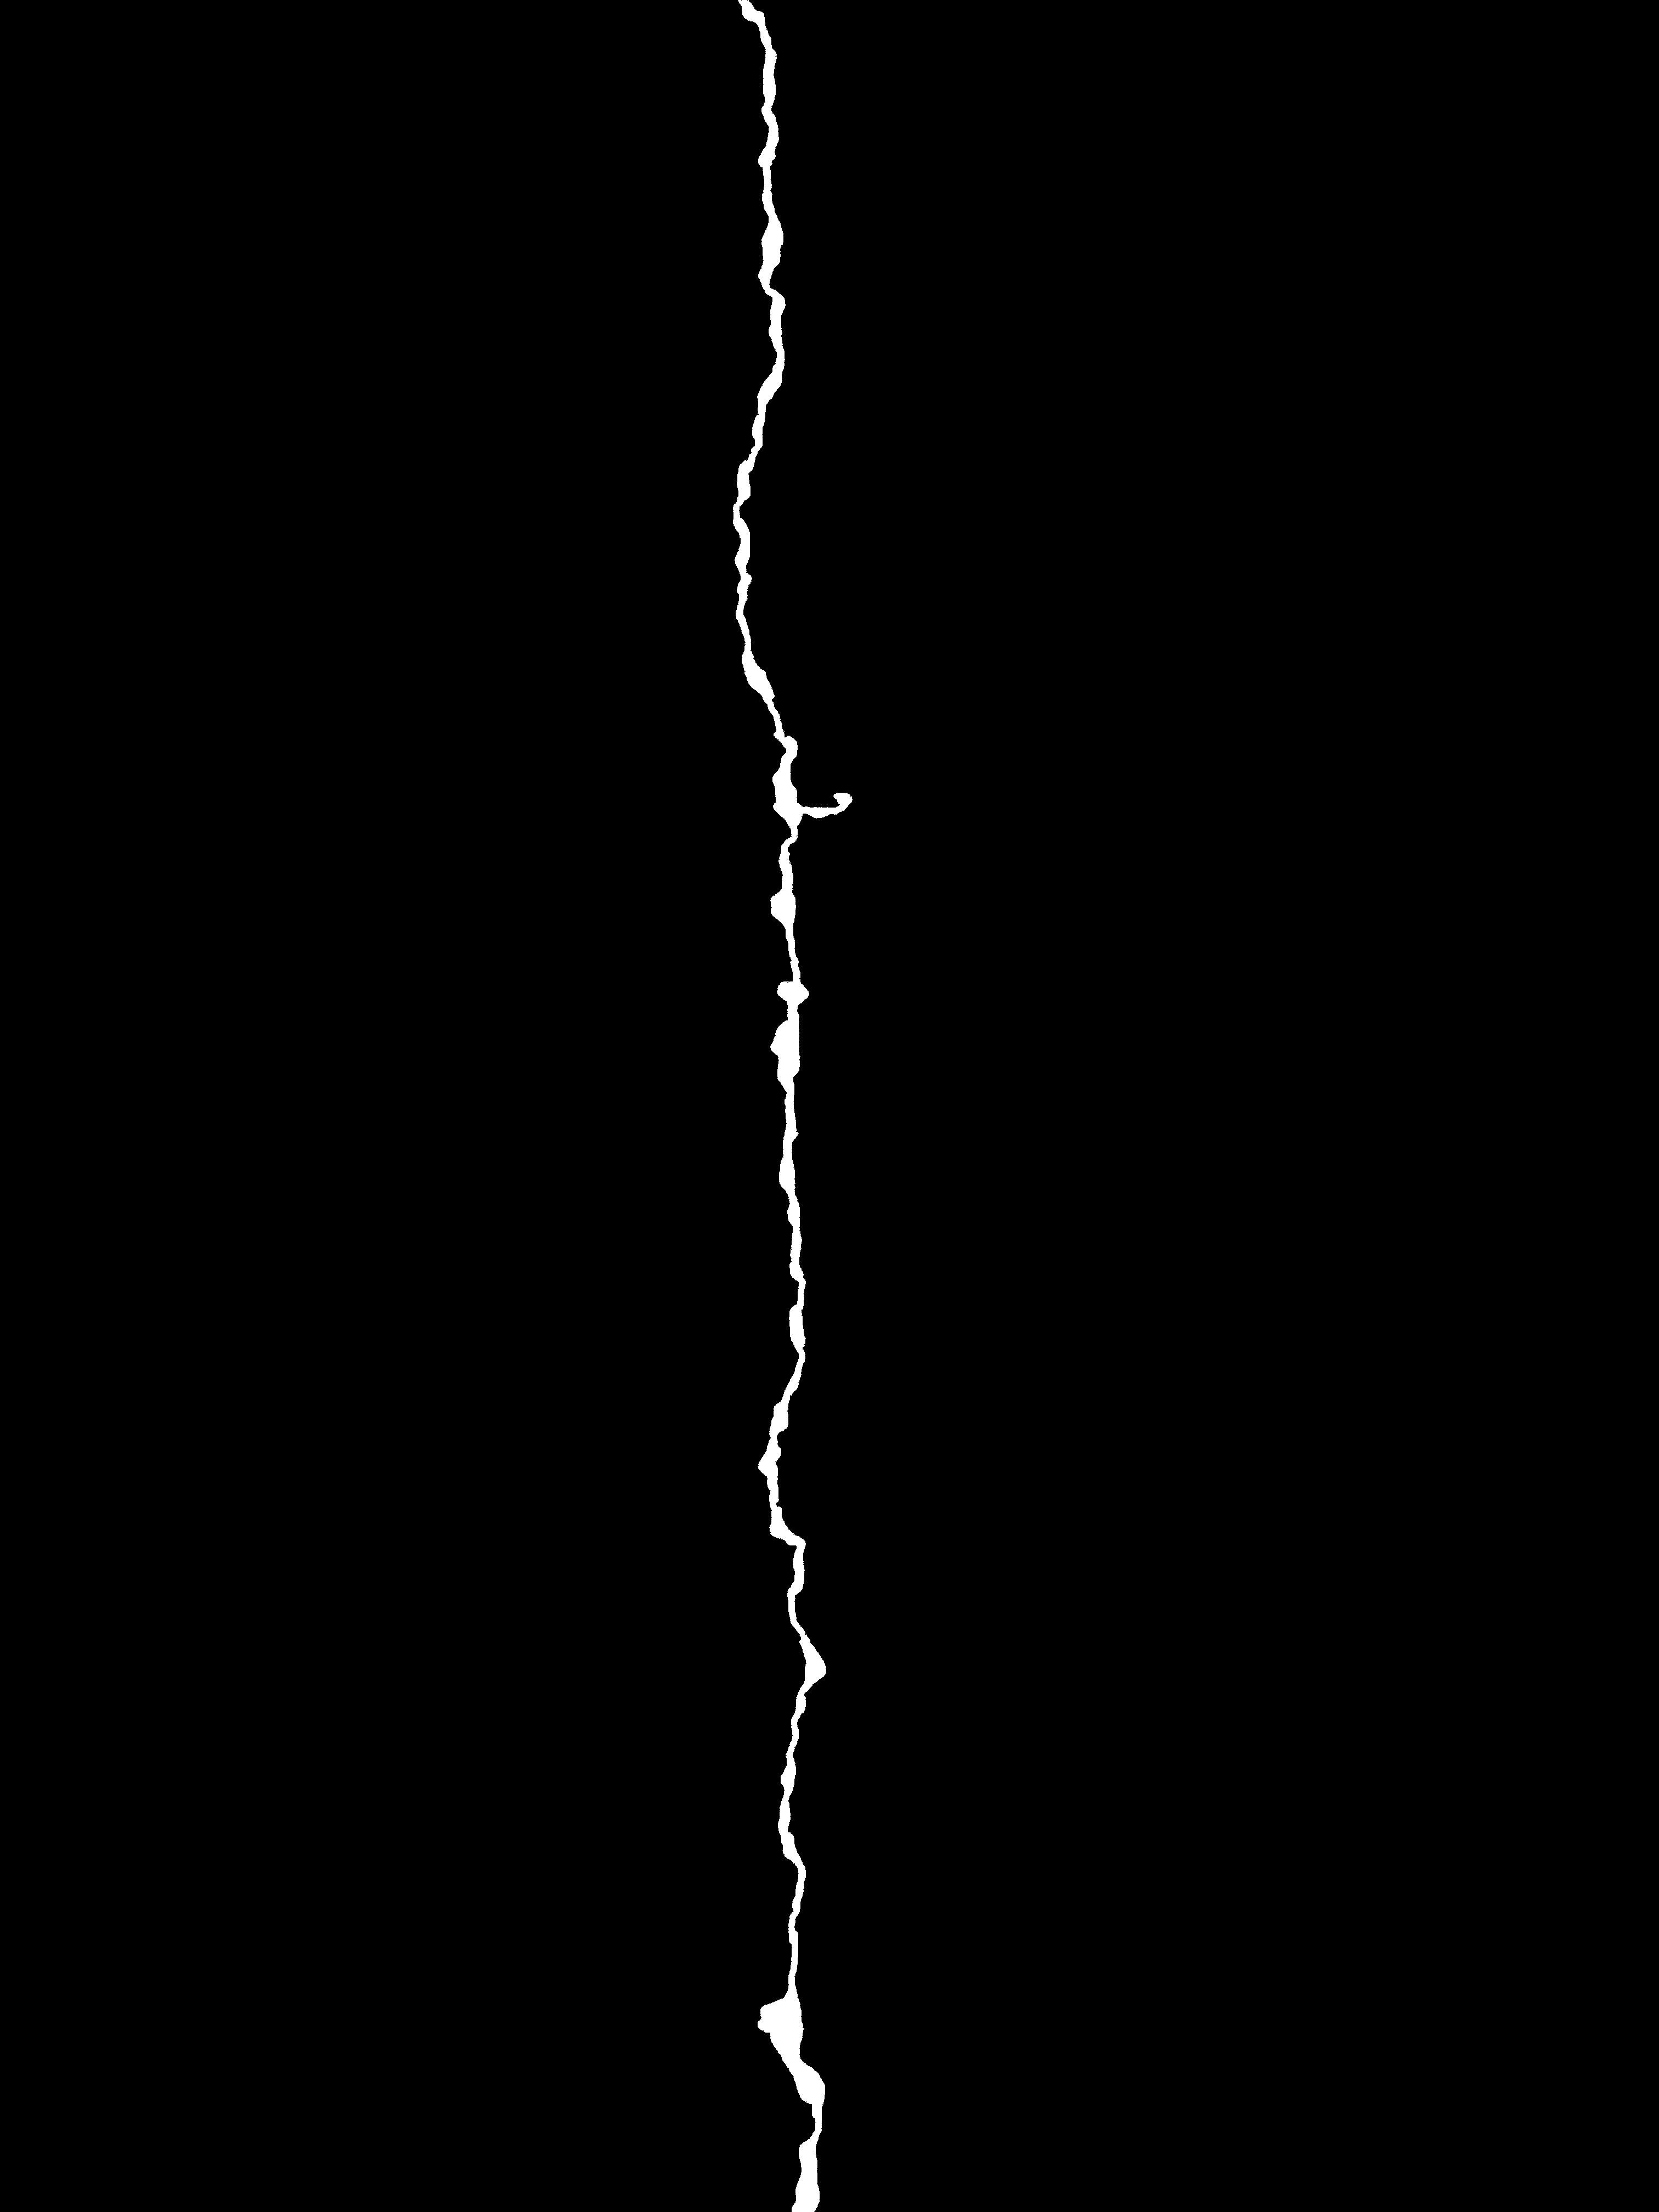Crack: (725, 0, 849, 2212)
